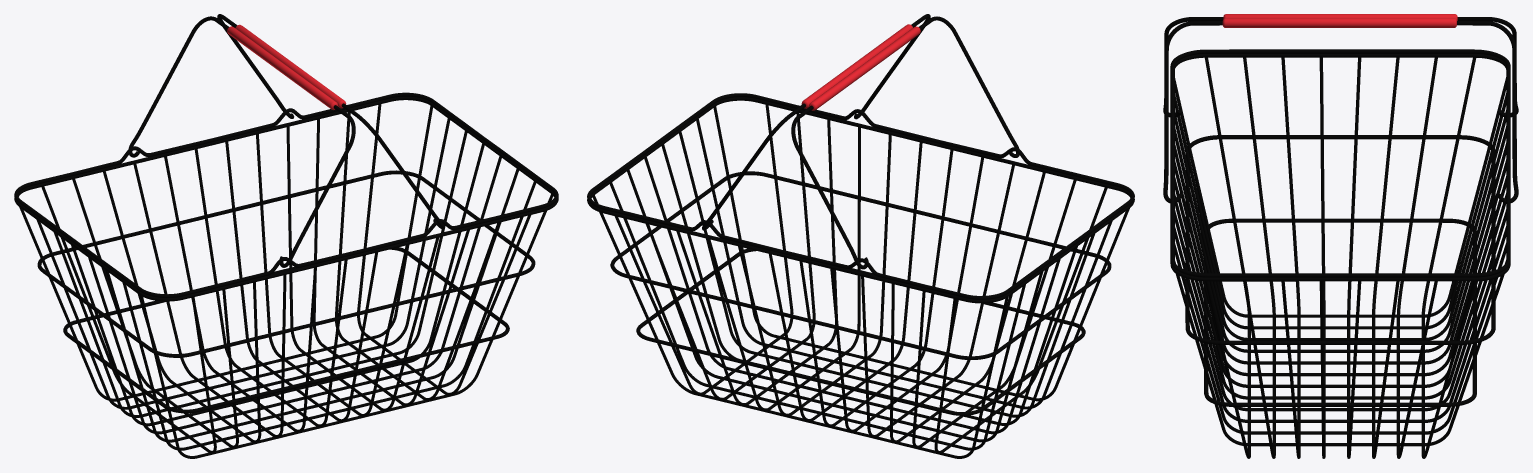
File: shopping_metal_basket.glb
3 renders of one model, left to right at view 1: azimuth 30°, elevation 25°; view 2: azimuth 150°, elevation 25°; view 3: azimuth 270°, elevation 25°, orthographic. The views are drawn at different scales.
Parts seen in each view (by area): view 1: Sweep_4_remesh, Handles; view 2: Sweep_4_remesh, Handles; view 3: Sweep_4_remesh, Handles.
Boxes of the visible parts, bbox=[...] form: Sweep_4_remesh: bbox=[14, 92, 558, 458]; Handles: bbox=[128, 14, 444, 267]; Sweep_4_remesh: bbox=[587, 93, 1134, 458]; Handles: bbox=[702, 14, 1019, 269]; Sweep_4_remesh: bbox=[1170, 49, 1510, 458]; Handles: bbox=[1163, 14, 1518, 203].
Bounding box in the file's own units: 9.62 × 7.36 × 6.4.
